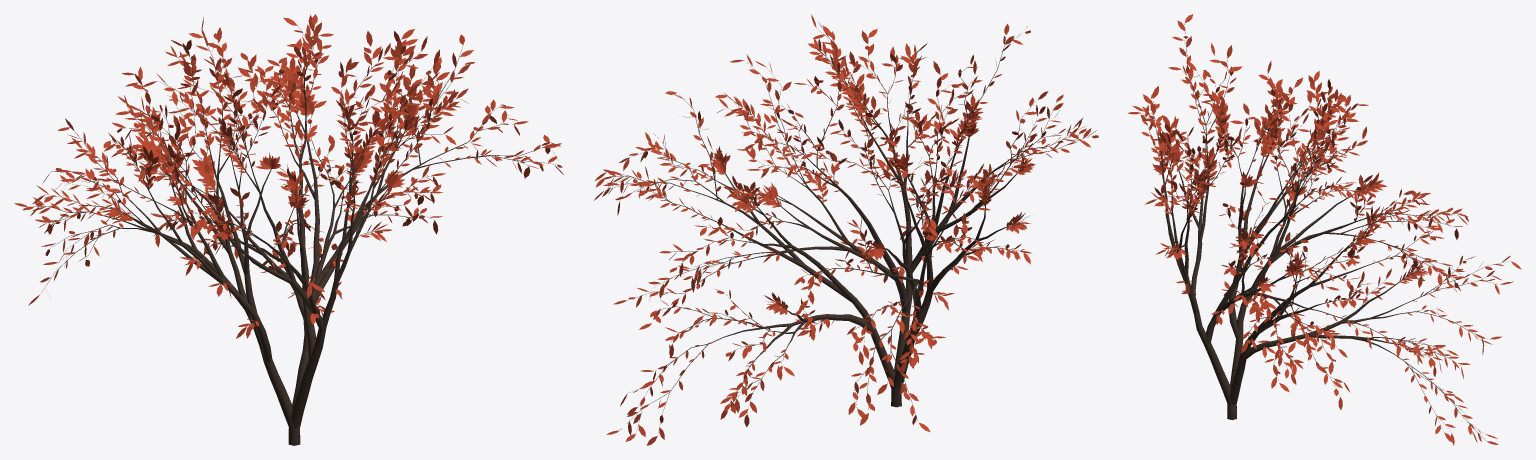
File: Tree_14.fbx
3 views of the same model, side by side, from view 1: azimuth 30°, elevation 25°; view 2: azimuth 150°, elevation 25°; view 3: azimuth 270°, elevation 25° (orthographic). The views are drawn at different scales.
Visible parts, largest first — view 1: leaves_14, Tree_14; view 2: leaves_14, Tree_14; view 3: leaves_14, Tree_14.
Boxes of the visible parts, left/top/right/bottom form: leaves_14: left=14, top=14, right=563, bottom=338; Tree_14: left=34, top=26, right=558, bottom=445; leaves_14: left=594, top=14, right=1098, bottom=445; Tree_14: left=605, top=32, right=1088, bottom=434; leaves_14: left=1127, top=14, right=1521, bottom=445; Tree_14: left=1147, top=24, right=1509, bottom=440.
Size of the model in its own units: 1328 by 1065 by 1080.
